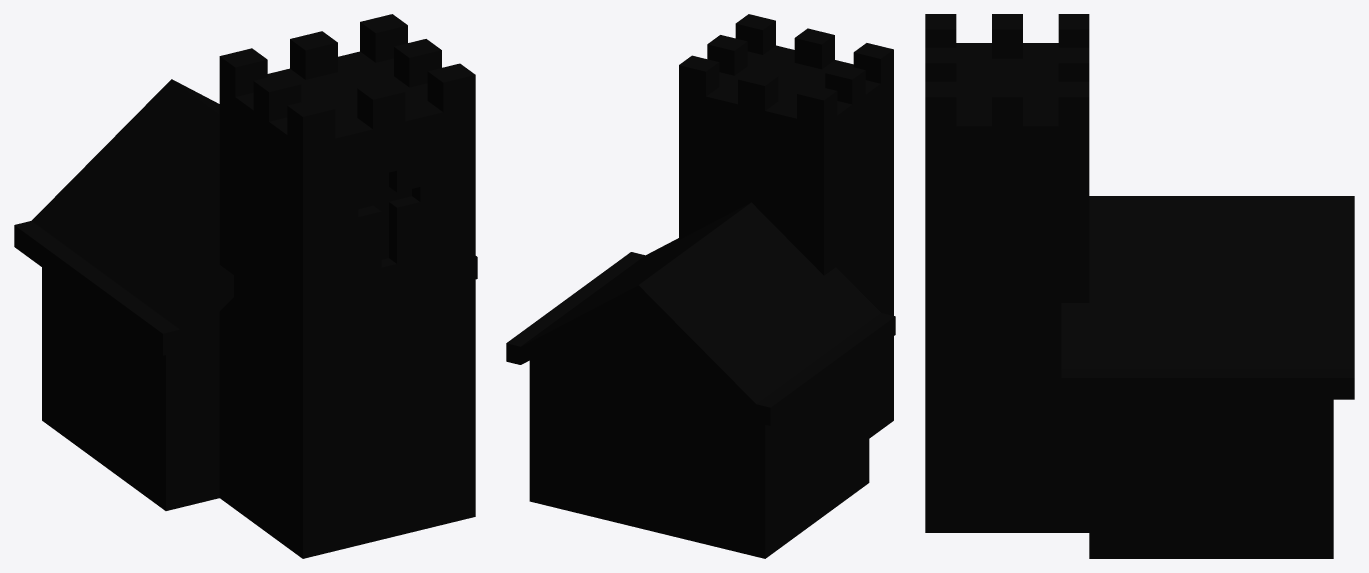
Rendered from Church.fbx.
3 views of the same model, side by side, from view 1: azimuth 30°, elevation 25°; view 2: azimuth 150°, elevation 25°; view 3: azimuth 270°, elevation 25° (orthographic). The views are drawn at different scales.
Visible parts, largest first — view 1: Church; view 2: Church; view 3: Church.
Boxes of the visible parts, x1,y1,x2,y2 form: Church: (14, 14, 477, 558); Church: (506, 14, 895, 558); Church: (925, 14, 1354, 558).
Size of the model in its own units: 81.53 by 109 by 97.89.
